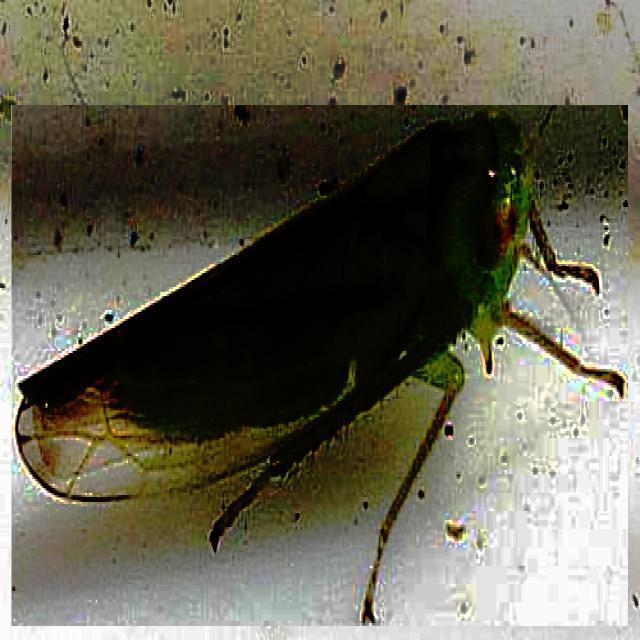green-leafhopper: (12, 106, 628, 626)
